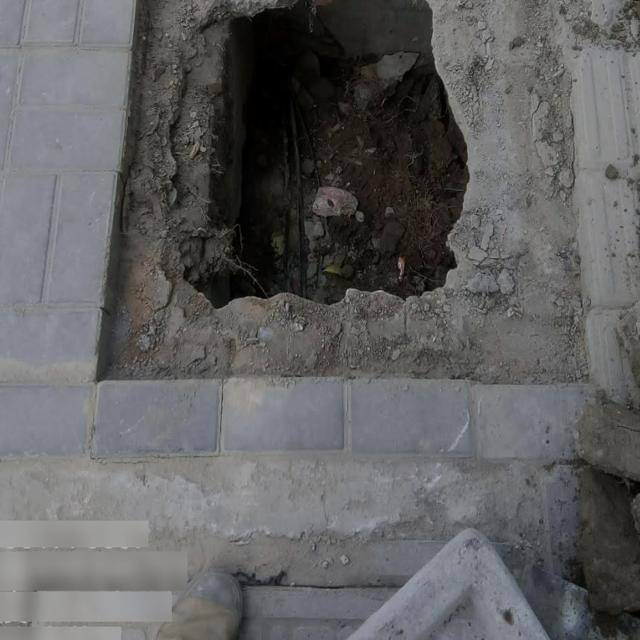lose: (95, 0, 594, 379)
